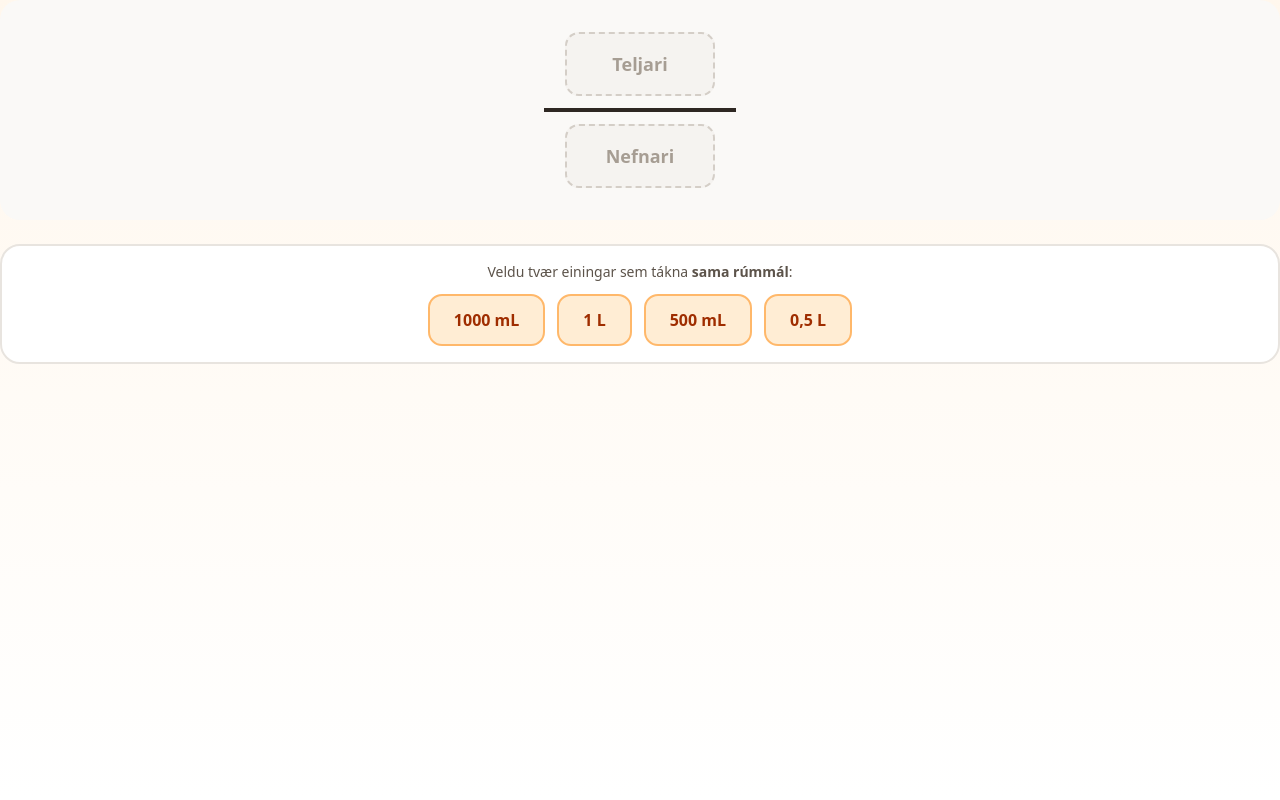
Test case: C2 states its verdict in well-formed notation › writes = 1, in red and without the tick, under {} over itself
The image size is (1280, 800).
Click the button "1 L": click(595, 320) [557, 294, 632, 346]
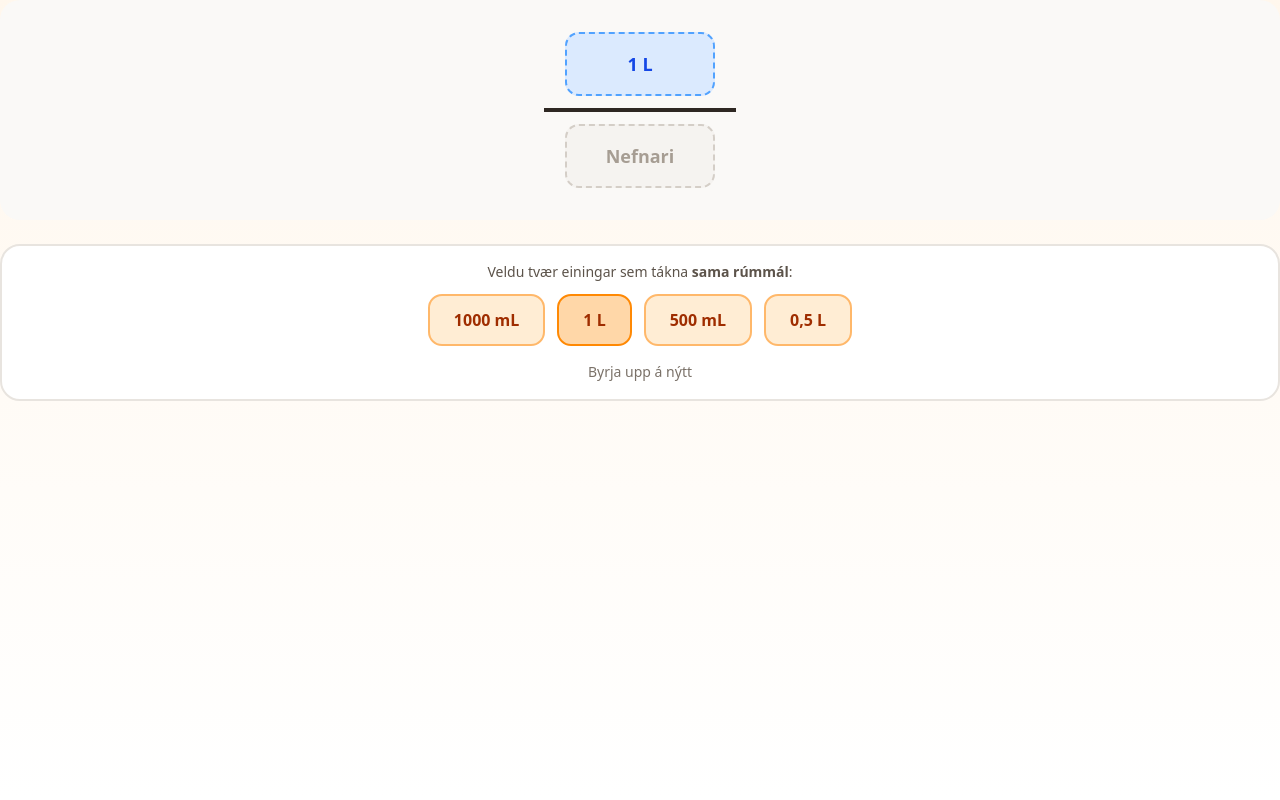
Click the button "1 L": click(595, 320) [557, 294, 632, 346]
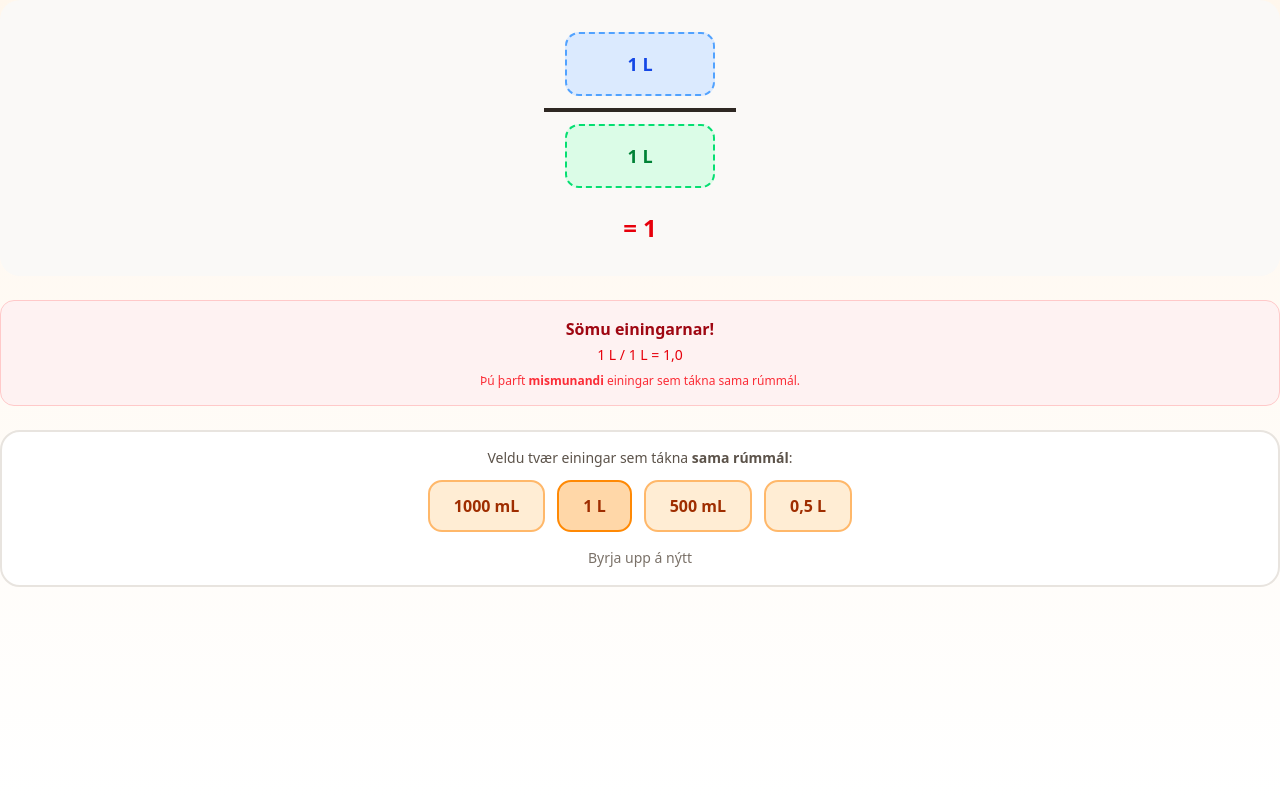
Check: the text "Sömu einingarnar!" is shown, box [566, 318, 714, 340]
